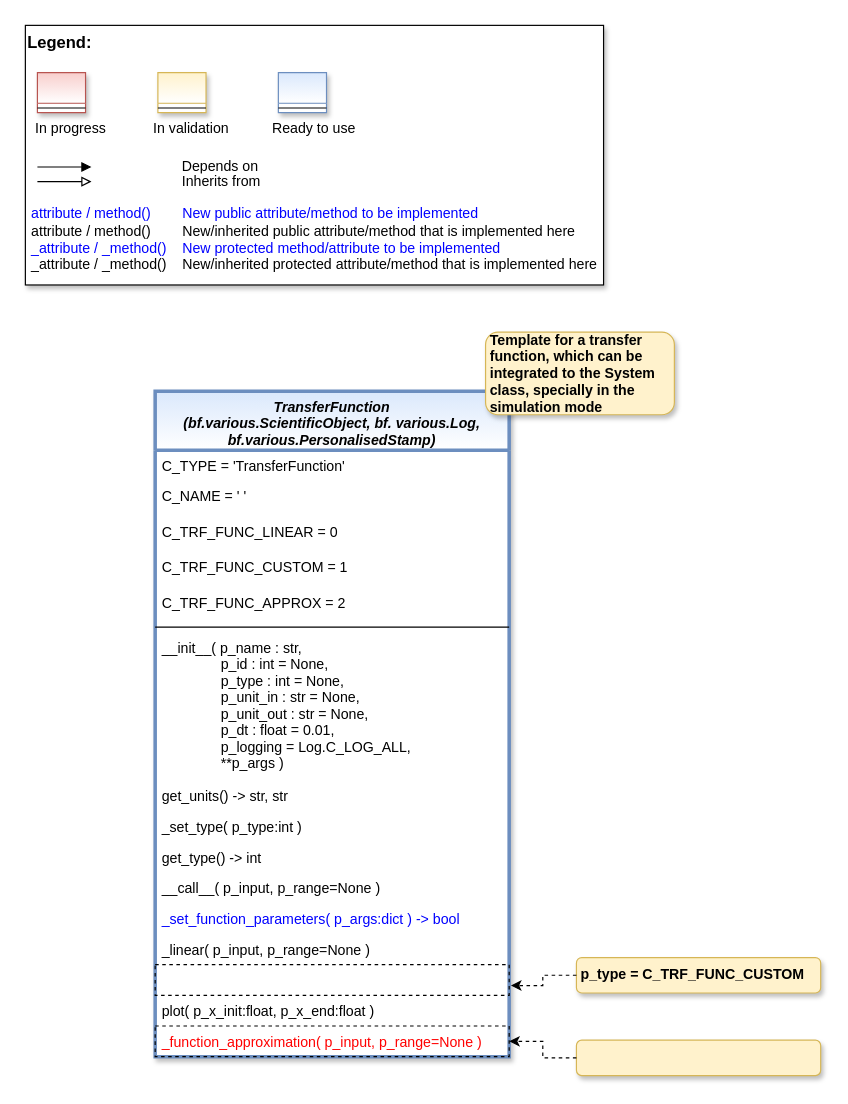
Image size: 848x1104. Some labels were removed from this diagram. The shapes that lost their labels are listed below. From the top down, each one's centre as x and y in pixels, then its label:
At pixel 331 979: "_custom_function( p_input, p_range=None )".
At pixel 699 1059: "p_type = C_TRF_FUNC_APPROX".
